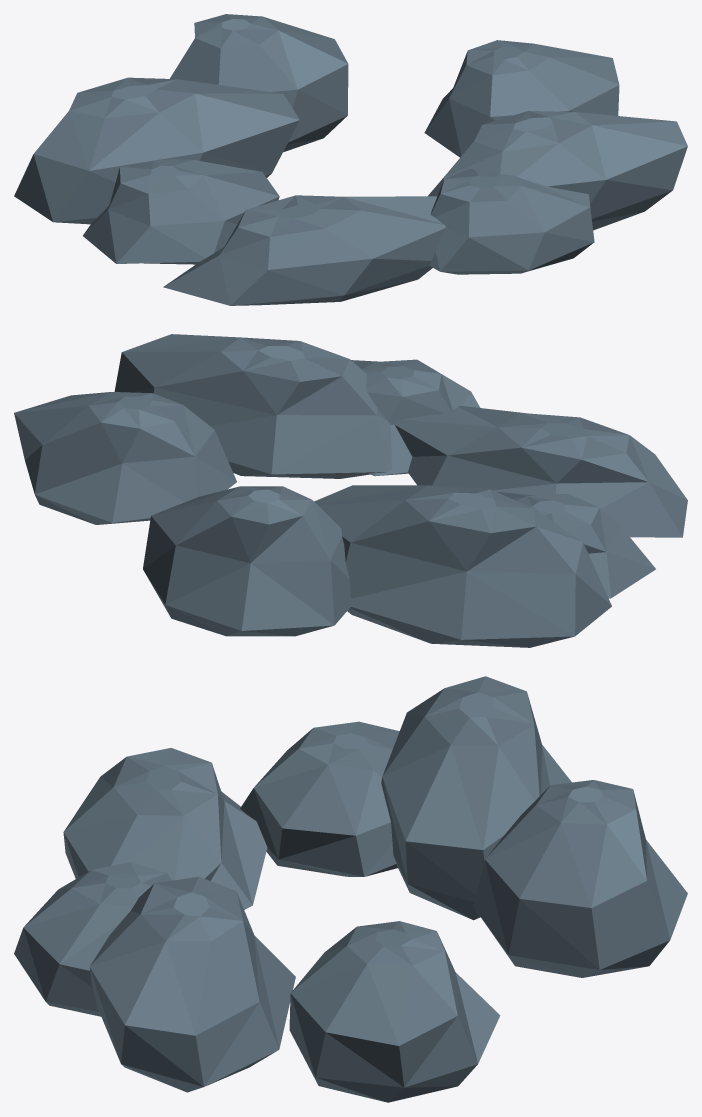
The model's file is N28_Pebble_Bed.fbx.
3 views of the same model, one above another, from view 1: azimuth 30°, elevation 25°; view 2: azimuth 150°, elevation 25°; view 3: azimuth 270°, elevation 25° (orthographic). The views are drawn at different scales.
Parts seen in each view (by area): view 1: N28_Pebble_Bed; view 2: N28_Pebble_Bed; view 3: N28_Pebble_Bed.
Boxes of the visible parts, bbox=[...] form: N28_Pebble_Bed: bbox=[14, 14, 687, 305]; N28_Pebble_Bed: bbox=[14, 334, 687, 647]; N28_Pebble_Bed: bbox=[14, 676, 687, 1102].
Bounding box in the file's own units: 0.9183 × 0.17 × 0.7702.
Materials: 1 (1 with a texture image).
